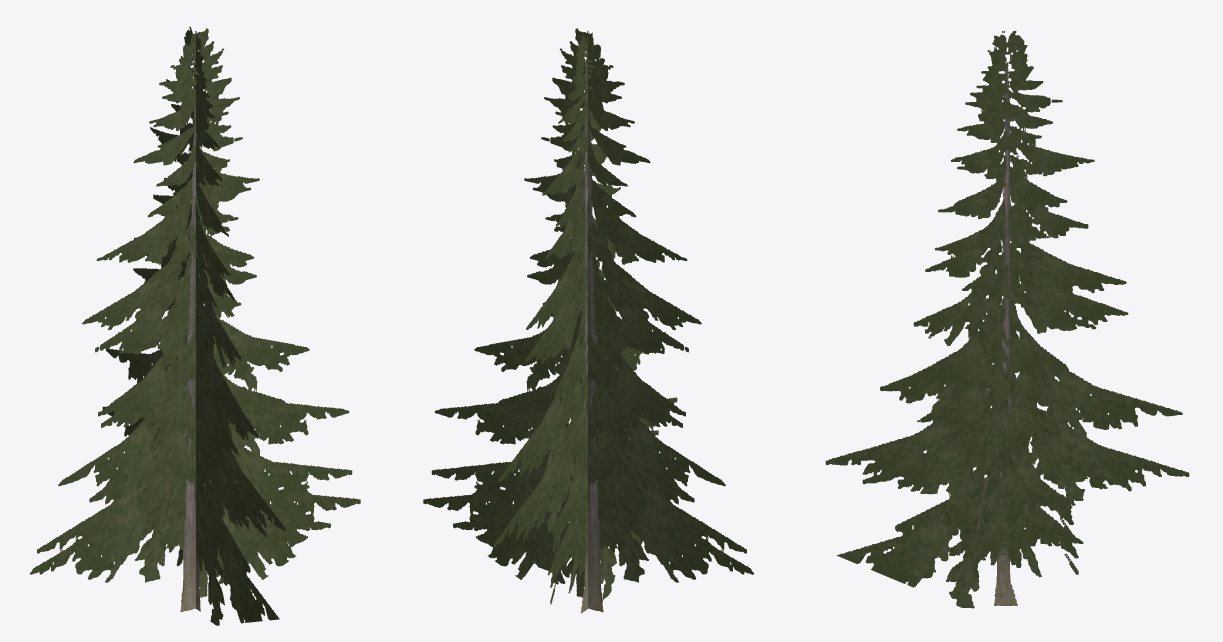
Rendered from spruce_LOD5.fbx.
3 views of the same model, side by side, from view 1: azimuth 30°, elevation 25°; view 2: azimuth 150°, elevation 25°; view 3: azimuth 270°, elevation 25° (orthographic).
Visible parts, largest first — view 1: spruce Imposter_0; view 2: spruce Imposter_0; view 3: spruce Imposter_0.
Boxes of the visible parts, x1=… form: spruce Imposter_0: x1=30, y1=26, x2=360, y2=625; spruce Imposter_0: x1=423, y1=28, x2=753, y2=613; spruce Imposter_0: x1=825, y1=31, x2=1189, y2=608.
Size of the model in its own units: 135 by 218 by 133.
1 material, 1 textured.
